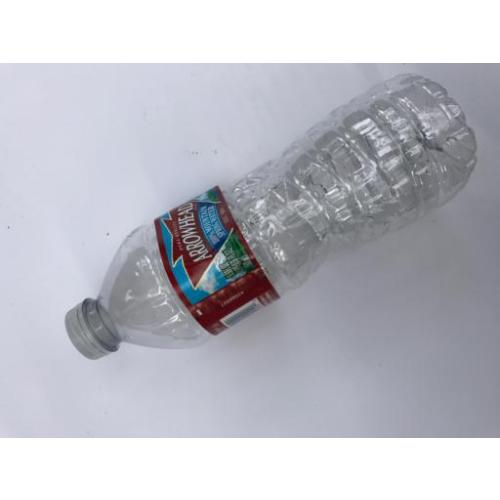plastic: (73, 75, 477, 362)
